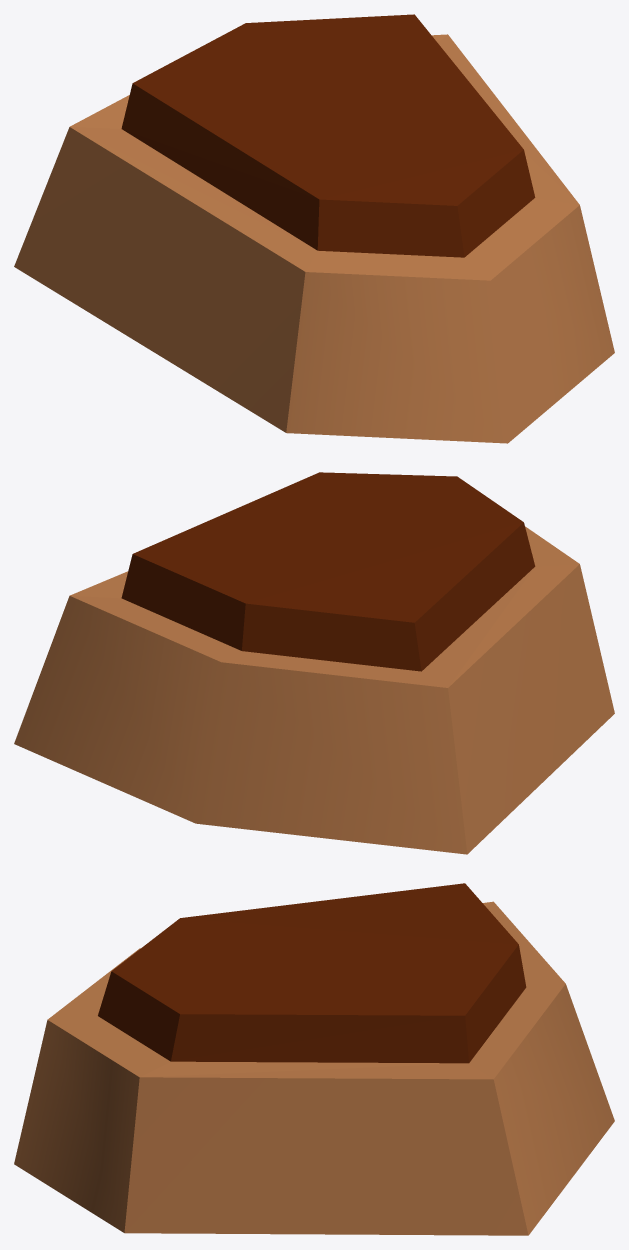
File: Poleyn 04.FBX
The picture shows the model from 3 angles, top to bottom: view 1: azimuth 30°, elevation 25°; view 2: azimuth 150°, elevation 25°; view 3: azimuth 270°, elevation 25°; orthographic projection. The views are drawn at different scales.
Visible parts, largest first — view 1: Poleyn 04; view 2: Poleyn 04; view 3: Poleyn 04.
Part boxes in pixels (left/top/right/bottom): Poleyn 04: left=14, top=14, right=614, bottom=443; Poleyn 04: left=14, top=472, right=614, bottom=854; Poleyn 04: left=14, top=883, right=614, bottom=1235.
Size of the model in its own units: 10.75 by 12.83 by 5.18.
